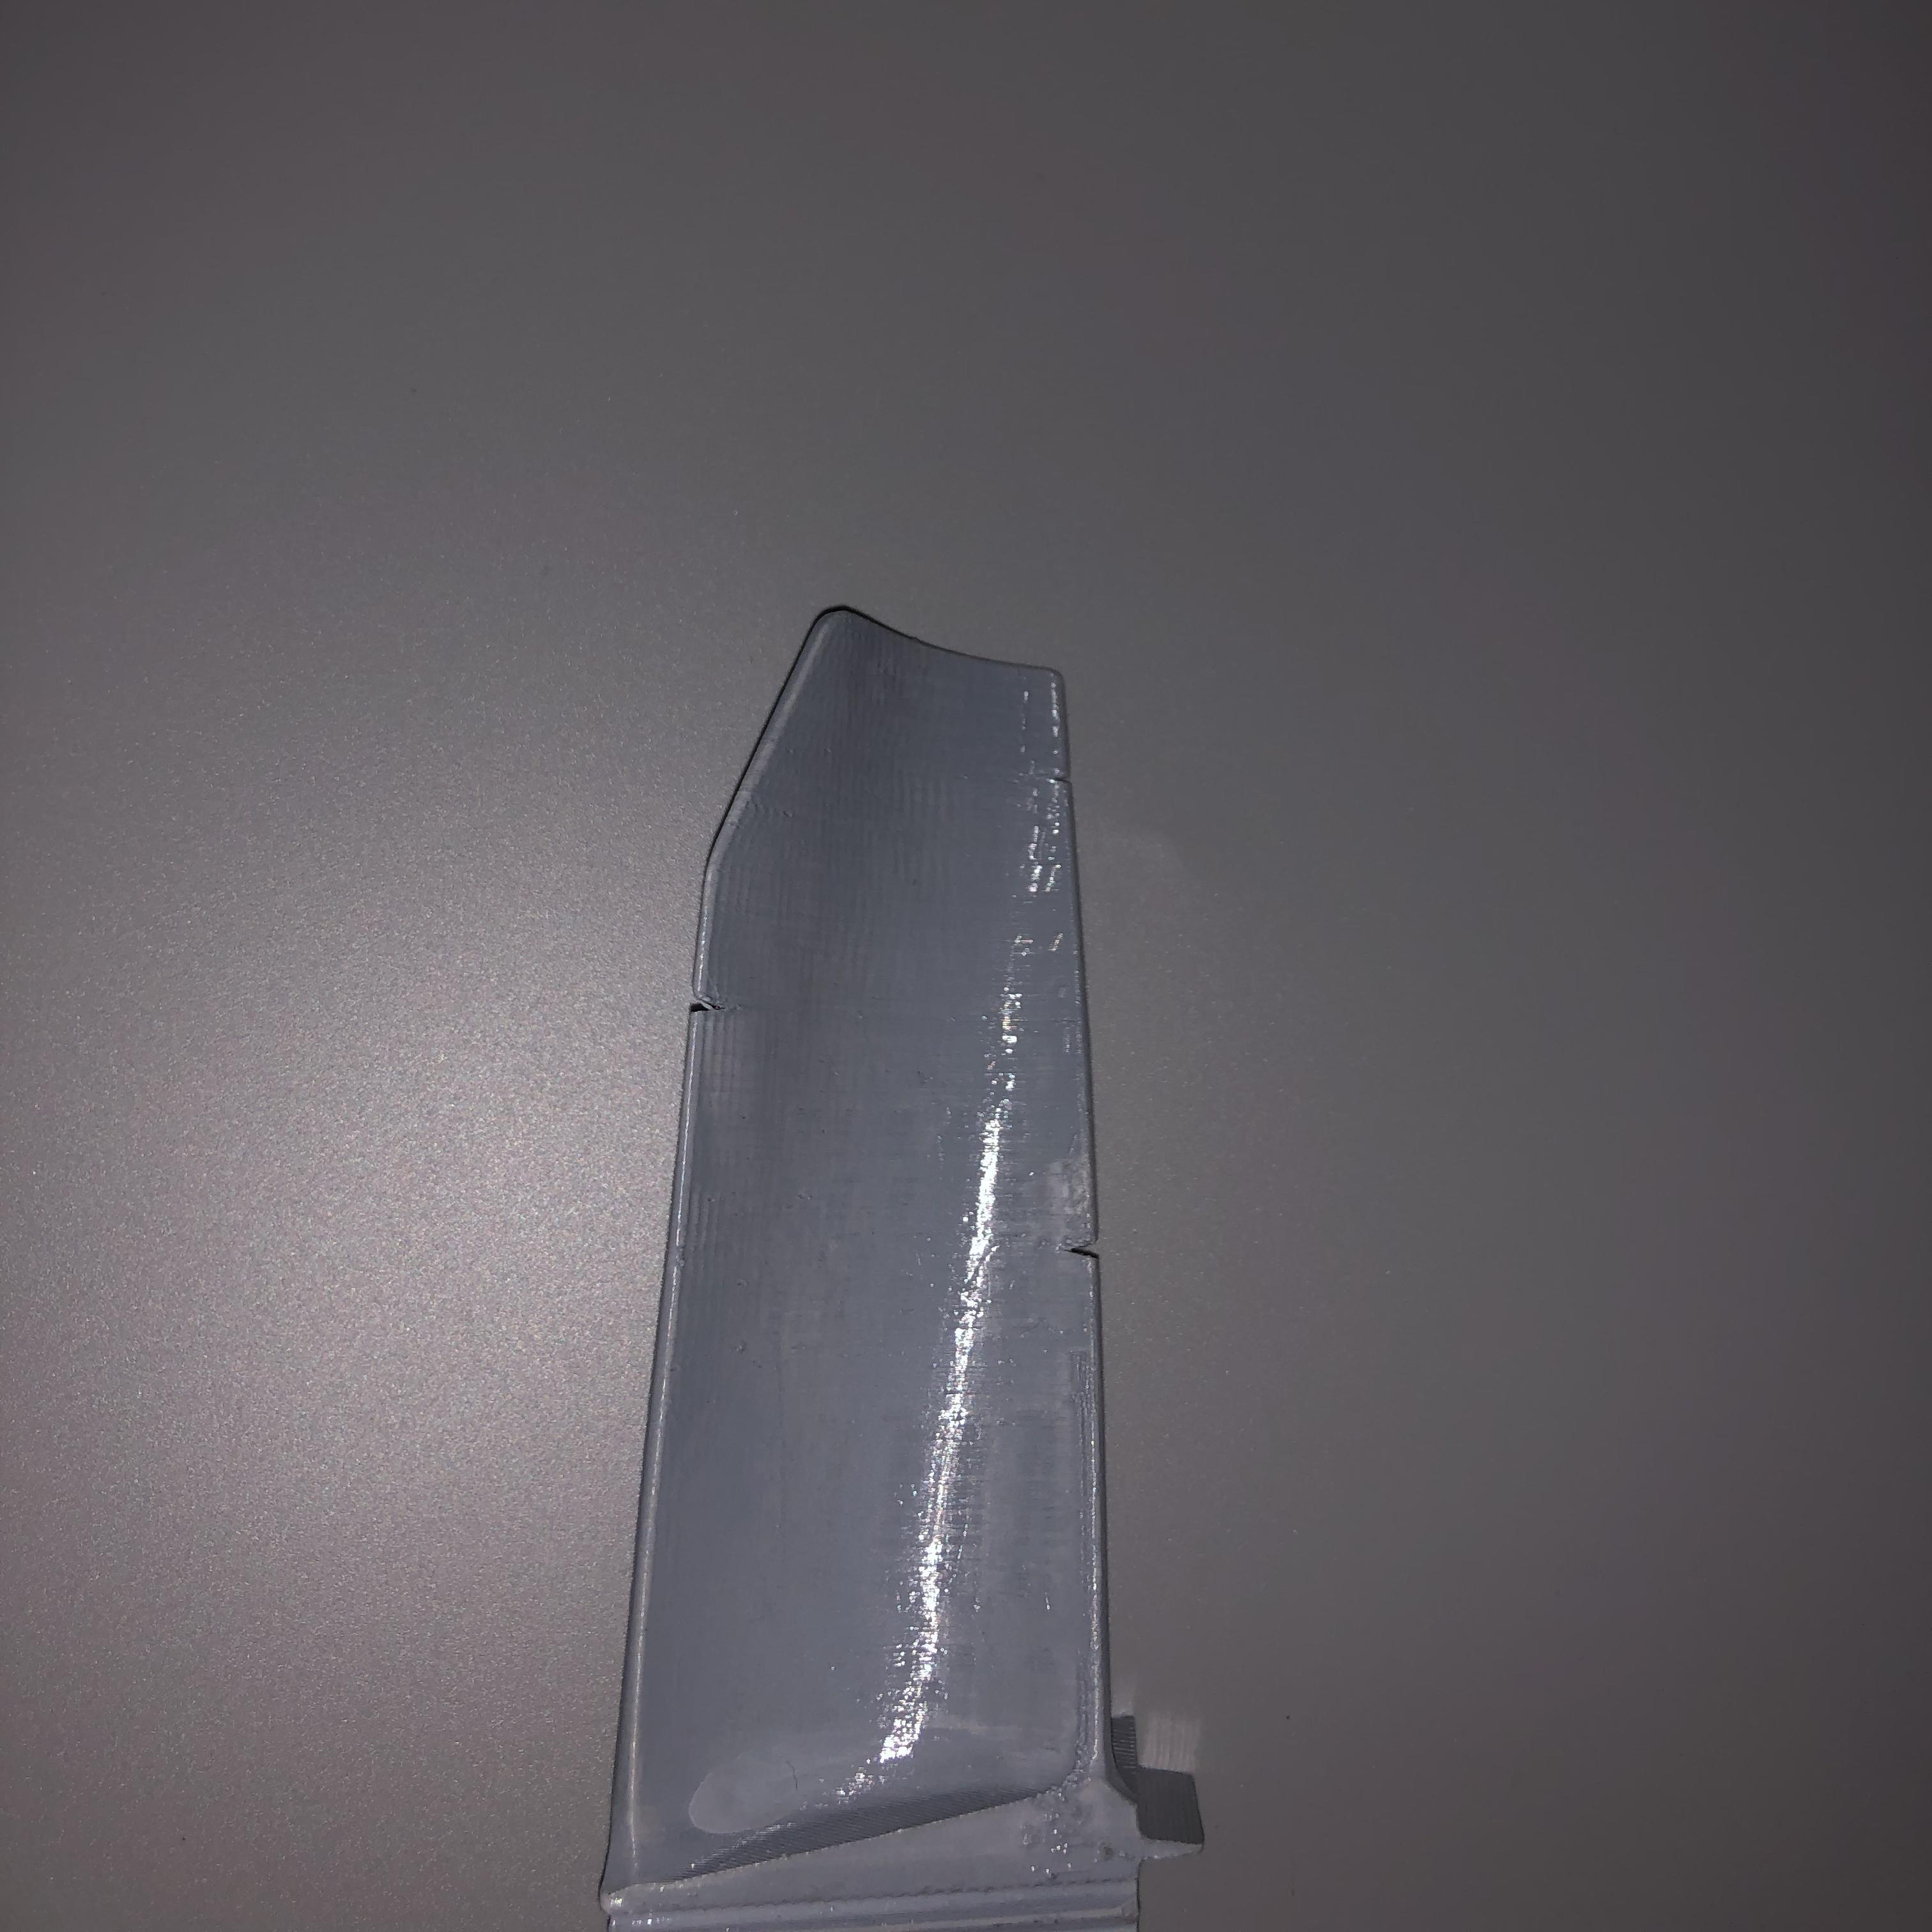groove: (1058, 1214, 1104, 1269), (685, 991, 743, 1023)
